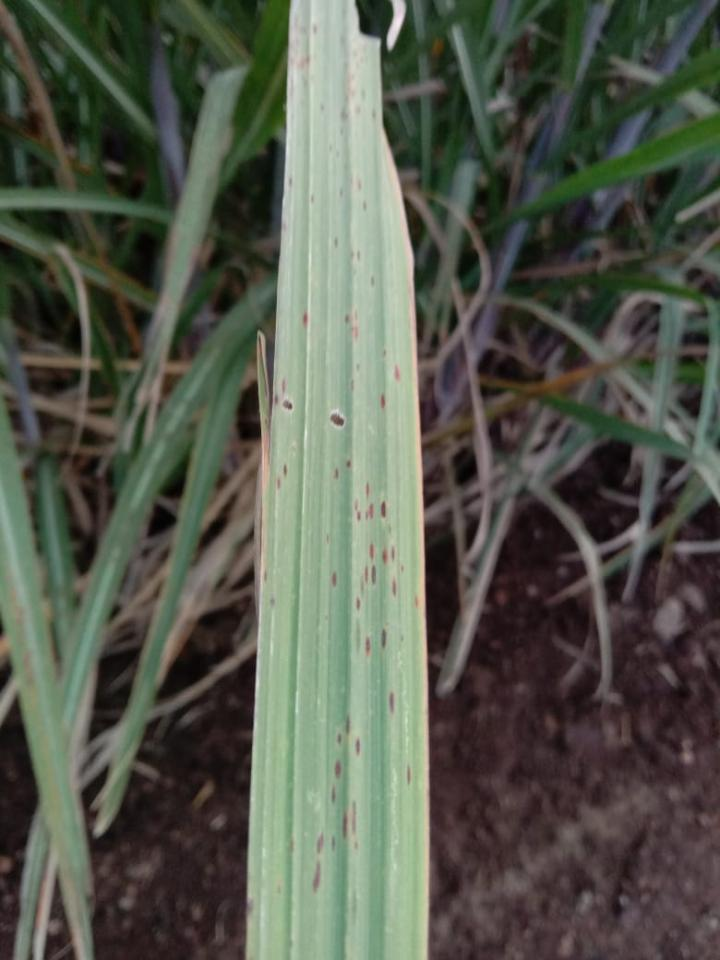Rust: (306, 28, 379, 214), (310, 710, 366, 897), (349, 537, 421, 616), (347, 478, 393, 526), (360, 623, 390, 662), (272, 378, 295, 414), (342, 307, 360, 342), (331, 456, 354, 481), (384, 687, 399, 723), (327, 409, 349, 433), (401, 759, 415, 790), (276, 462, 289, 490), (299, 310, 312, 329), (392, 361, 402, 384), (328, 233, 342, 249), (349, 247, 361, 265), (330, 569, 340, 590), (286, 172, 296, 191), (369, 270, 380, 287), (378, 393, 388, 411), (260, 568, 269, 584), (348, 377, 358, 391), (268, 596, 278, 609)
